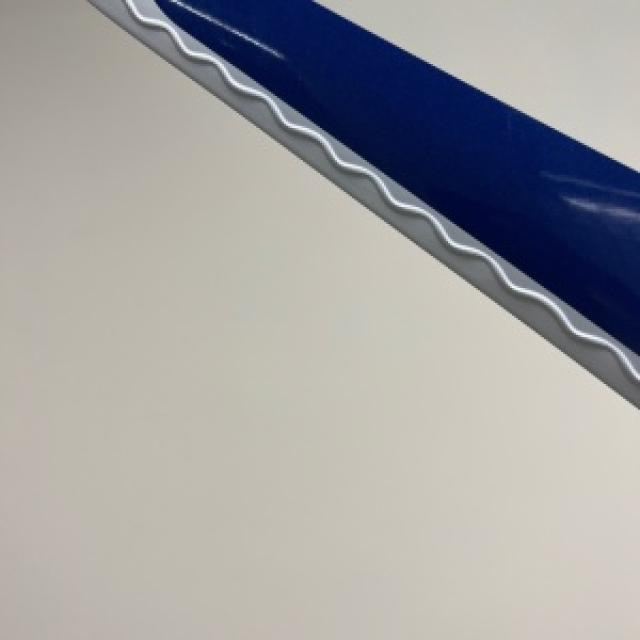healthy: (90, 0, 638, 403)
